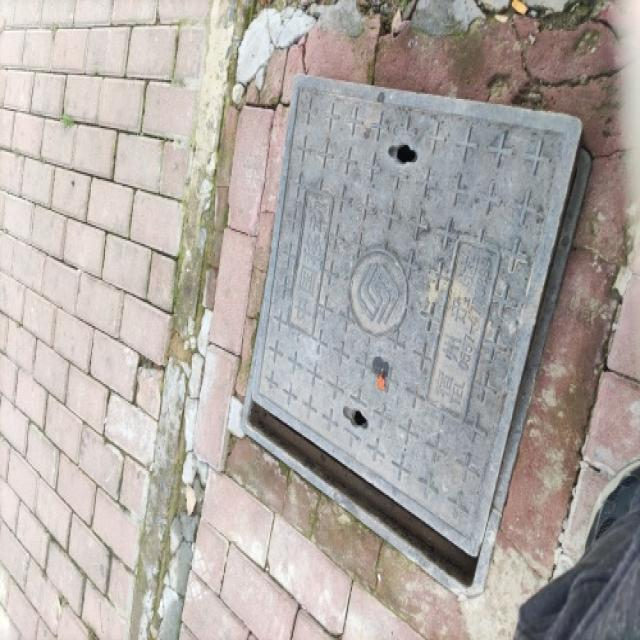Faulty: (243, 66, 608, 606)
